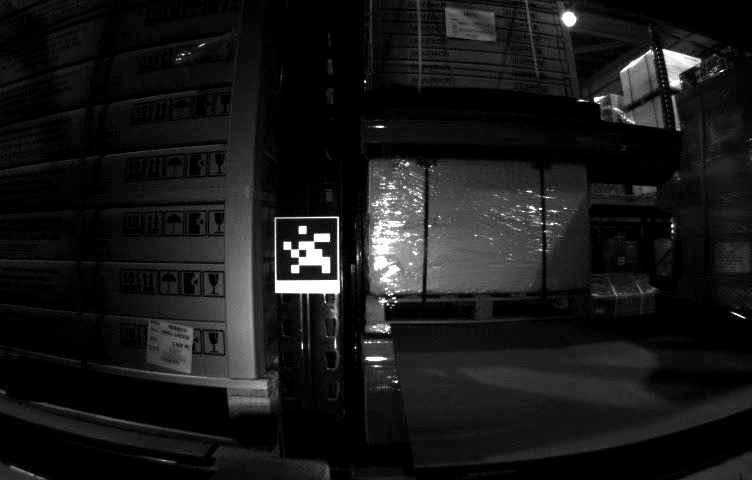True Barcode: (146, 318, 193, 374)
